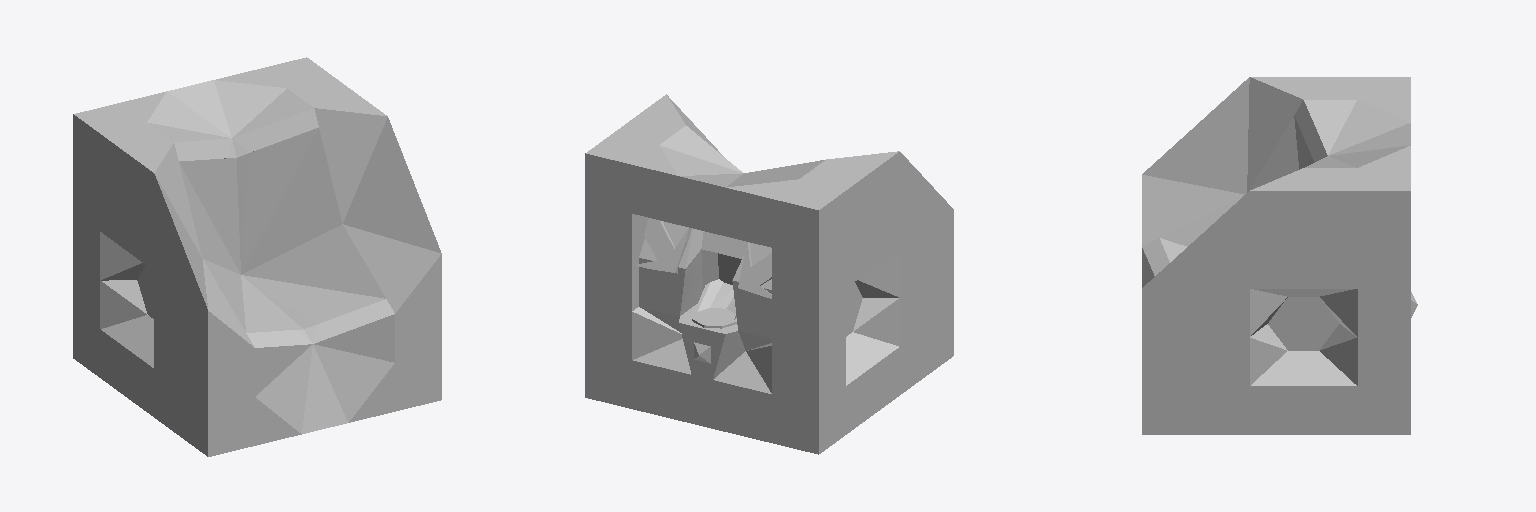
File: Scrapper_Body.obj
3 views of the same model, side by side, from view 1: azimuth 30°, elevation 25°; view 2: azimuth 150°, elevation 25°; view 3: azimuth 270°, elevation 25° (orthographic).
Parts seen in each view (by area): view 1: Cube_Cube.000; view 2: Cube_Cube.000; view 3: Cube_Cube.000.
Boxes of the visible parts, x1,y1,x2,y2 form: Cube_Cube.000: [73, 57, 441, 456]; Cube_Cube.000: [585, 94, 953, 454]; Cube_Cube.000: [1142, 77, 1417, 434].
Bounding box in the file's own units: 5 × 5 × 5.12.